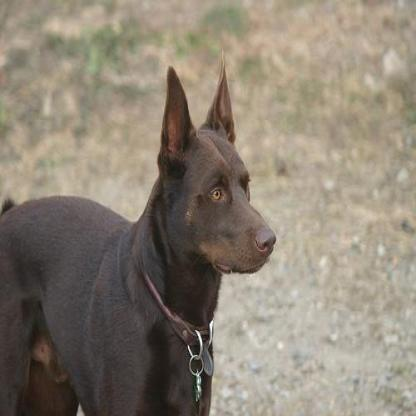kelpie: (0, 46, 275, 411)
